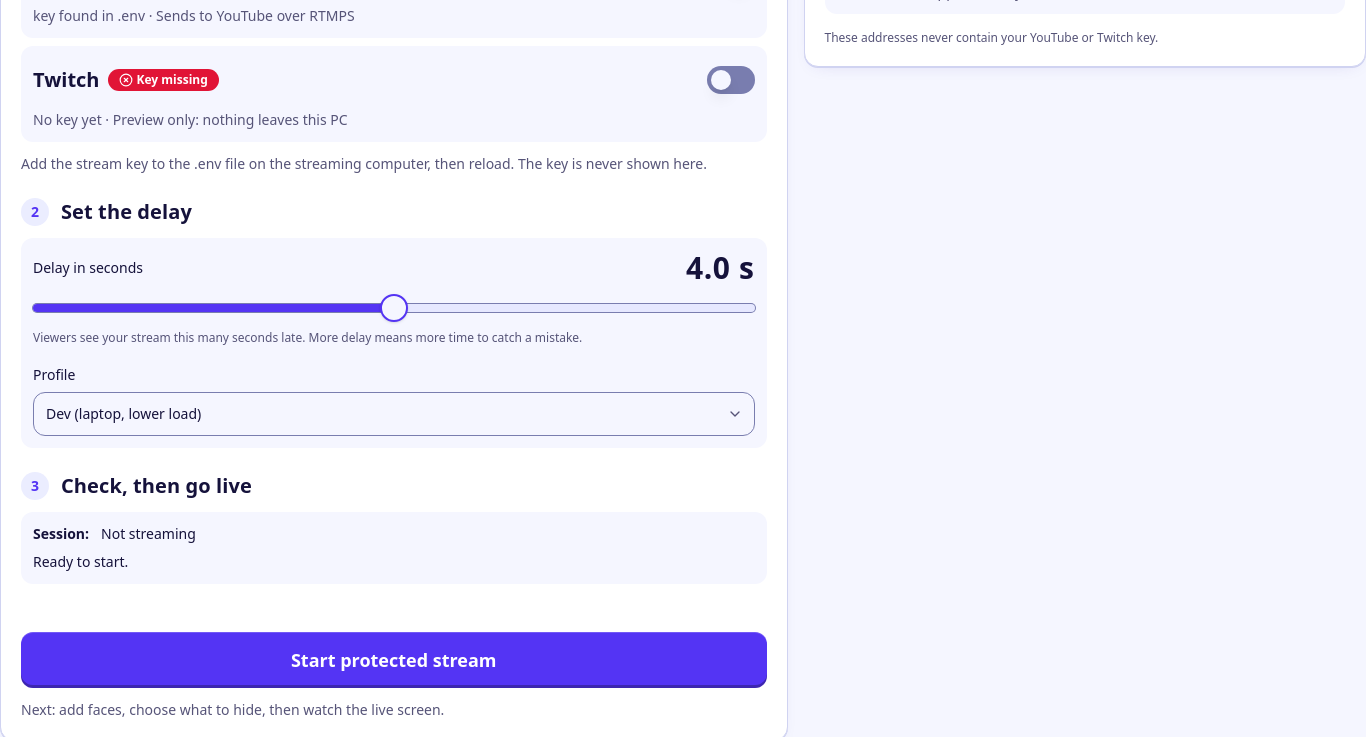
Test: GoLivePanel › starts with the chosen destinations, delay and profile, then shows the setup checks
The image size is (1366, 737).
(page scrolled)
Expected: the button "Start protected stream" is enabled, [21,632,766,688]
Select "Stronger GPU (8 GB laptop, more checks)" in the dropdown labelled "Profile" at (394, 414), box [33,392,754,436]
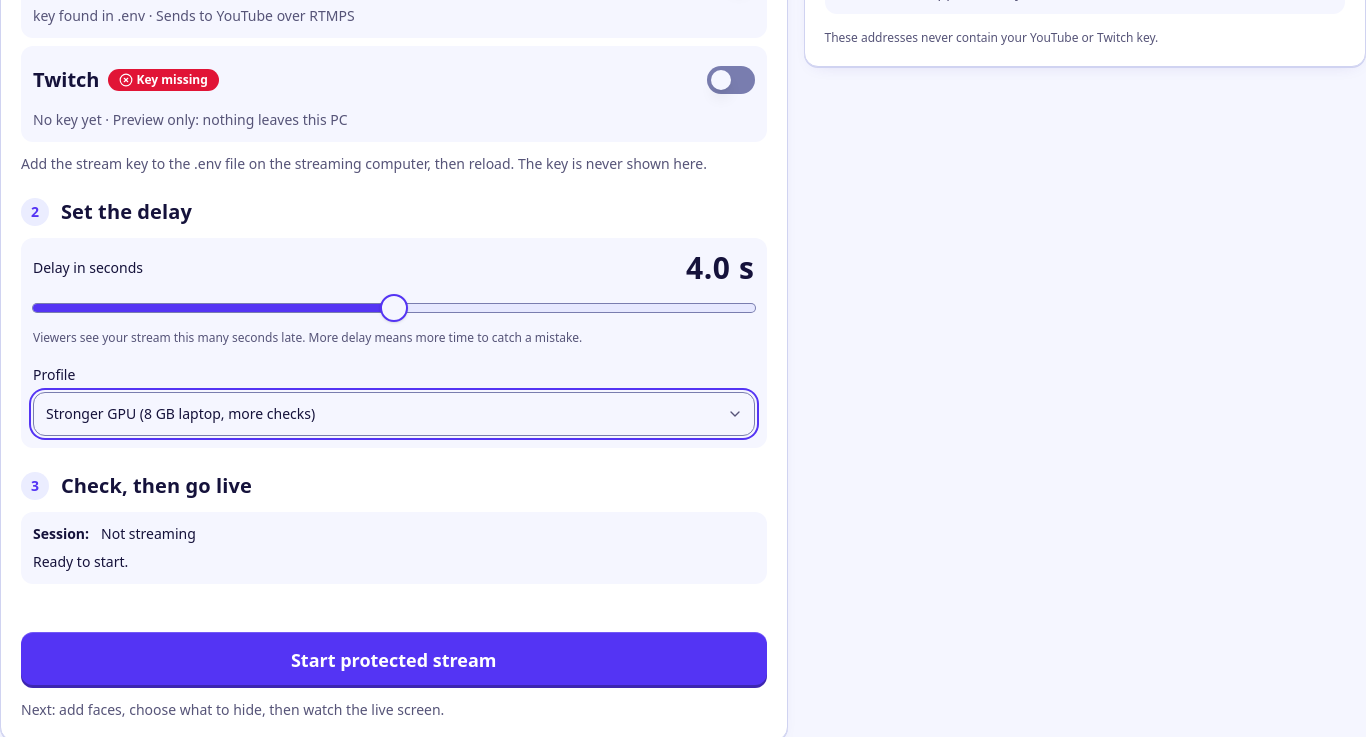
Click the button "Start protected stream" at (394, 660), box [21,632,766,688]
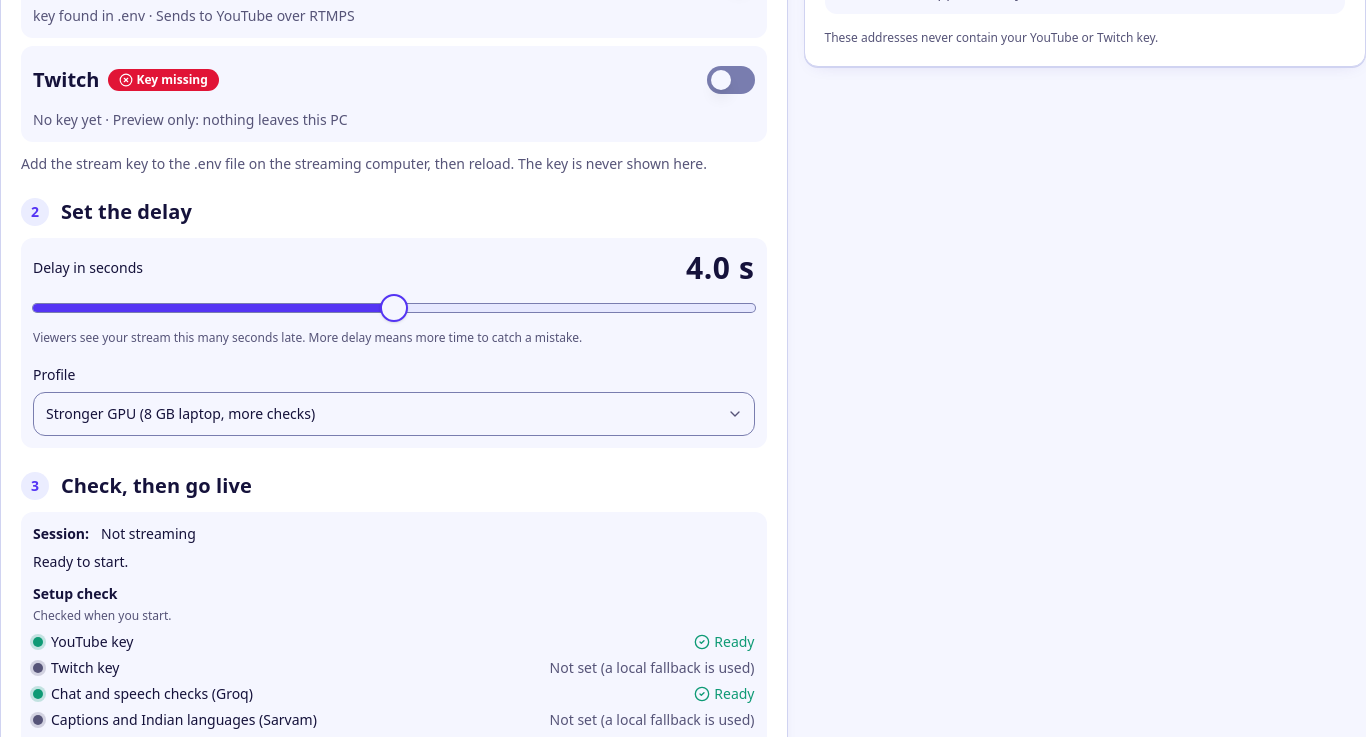
Expected: the text "Ready" is shown 2 times, [694,632,754,652]; [694,684,754,704]
